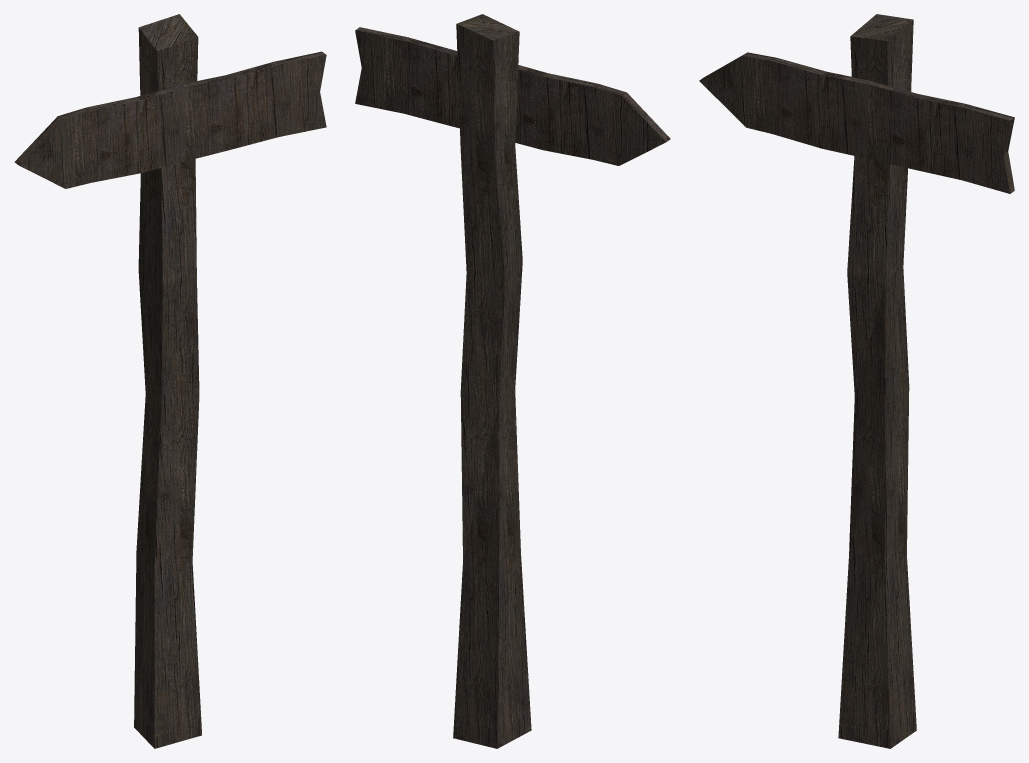
The model's file is Sign 1.fbx.
3 renders of one model, left to right at view 1: azimuth 30°, elevation 25°; view 2: azimuth 150°, elevation 25°; view 3: azimuth 330°, elevation 25°, orthographic.
Parts seen in each view (by area): view 1: Model; view 2: Model; view 3: Model.
Boxes of the visible parts, x1,y1,x2,y2 form: Model: (14, 14, 326, 748); Model: (355, 14, 670, 748); Model: (699, 14, 1014, 748).
Size of the model in its own units: 38.08 by 83.34 by 6.07.
